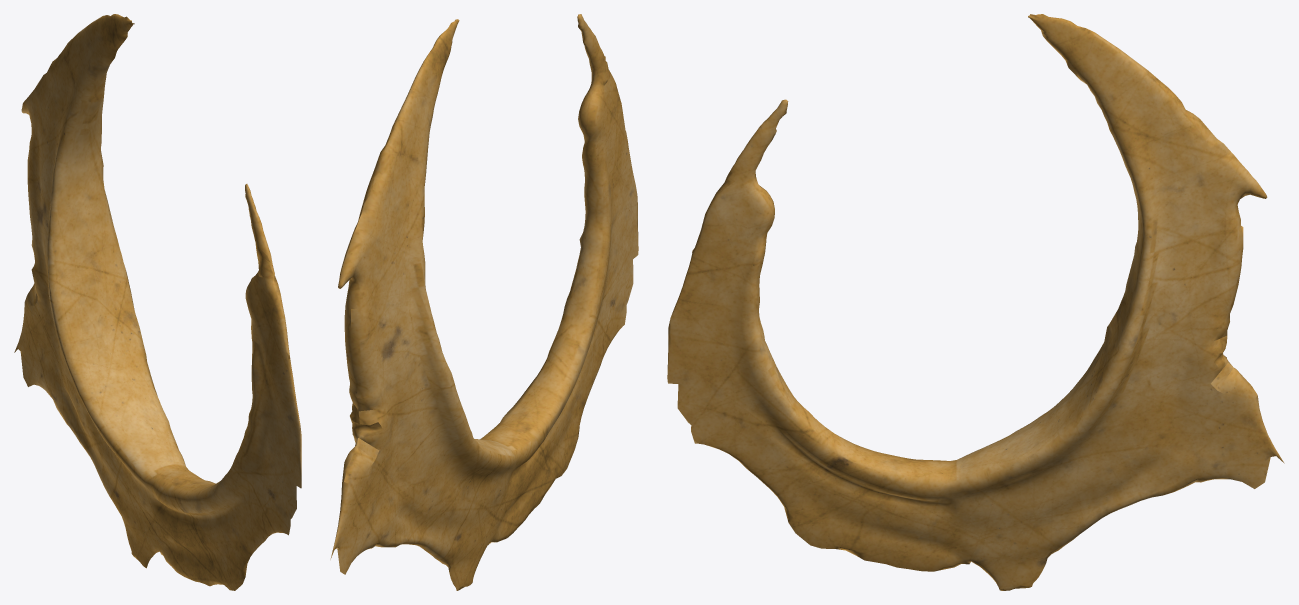
File: Symbol Circle.fbx
3 views of the same model, side by side, from view 1: azimuth 30°, elevation 25°; view 2: azimuth 150°, elevation 25°; view 3: azimuth 270°, elevation 25° (orthographic). The views are drawn at different scales.
Parts seen in each view (by area): view 1: Symbol Circle_Baked; view 2: Symbol Circle_Baked; view 3: Symbol Circle_Baked.
Boxes of the visible parts, x1,y1,x2,y2 form: Symbol Circle_Baked: (14, 14, 301, 590); Symbol Circle_Baked: (330, 14, 638, 590); Symbol Circle_Baked: (667, 14, 1284, 590).
Bounding box in the file's own units: 13.28 × 86.92 × 84.27.
Materials: 1 (1 with a texture image).
